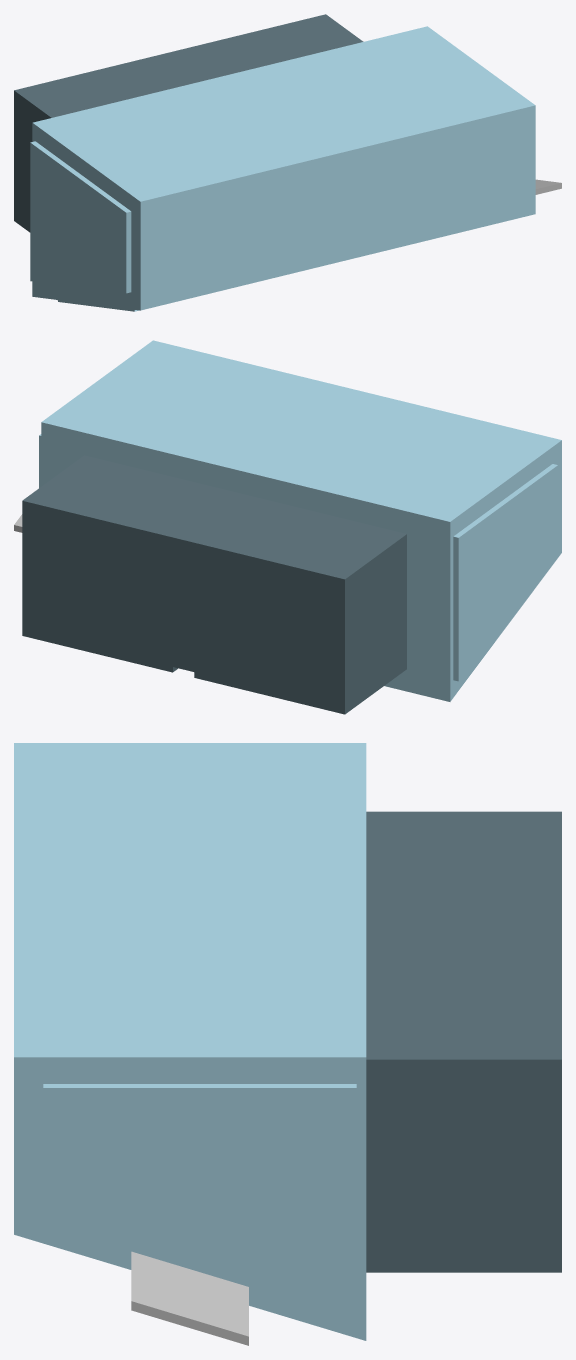
The model's file is cnc_grinding_machine_2_state_1.dae.
The picture shows the model from 3 angles, top to bottom: view 1: azimuth 30°, elevation 25°; view 2: azimuth 150°, elevation 25°; view 3: azimuth 270°, elevation 25°; orthographic projection. The views are drawn at different scales.
Parts seen in each view (by area): view 1: coords_ME_ID103_MA_material_20, coords_ME_ID53_MA_material_16, coords_ME_ID115_MA_material_20; view 2: coords_ME_ID53_MA_material_16, coords_ME_ID103_MA_material_20, coords_ME_ID115_MA_material_20; view 3: coords_ME_ID103_MA_material_20, coords_ME_ID53_MA_material_16, coords_ME_ID47_MA_material_20, coords_ME_ID11_MA_material_11.
Boxes of the visible parts, x1=… form: coords_ME_ID103_MA_material_20: x1=32, y1=26, x2=535, y2=310; coords_ME_ID53_MA_material_16: x1=14, y1=14, x2=363, y2=232; coords_ME_ID115_MA_material_20: x1=30, y1=141, x2=131, y2=293; coords_ME_ID53_MA_material_16: x1=22, y1=455, x2=406, y2=714; coords_ME_ID103_MA_material_20: x1=41, y1=340, x2=561, y2=701; coords_ME_ID115_MA_material_20: x1=453, y1=464, x2=557, y2=681; coords_ME_ID103_MA_material_20: x1=14, y1=743, x2=366, y2=1340; coords_ME_ID53_MA_material_16: x1=366, y1=811, x2=561, y2=1272; coords_ME_ID47_MA_material_20: x1=43, y1=1084, x2=356, y2=1314; coords_ME_ID11_MA_material_11: x1=131, y1=1251, x2=248, y2=1345.
Bounding box in the file's own units: 38.54 × 13.86 × 24.25.
